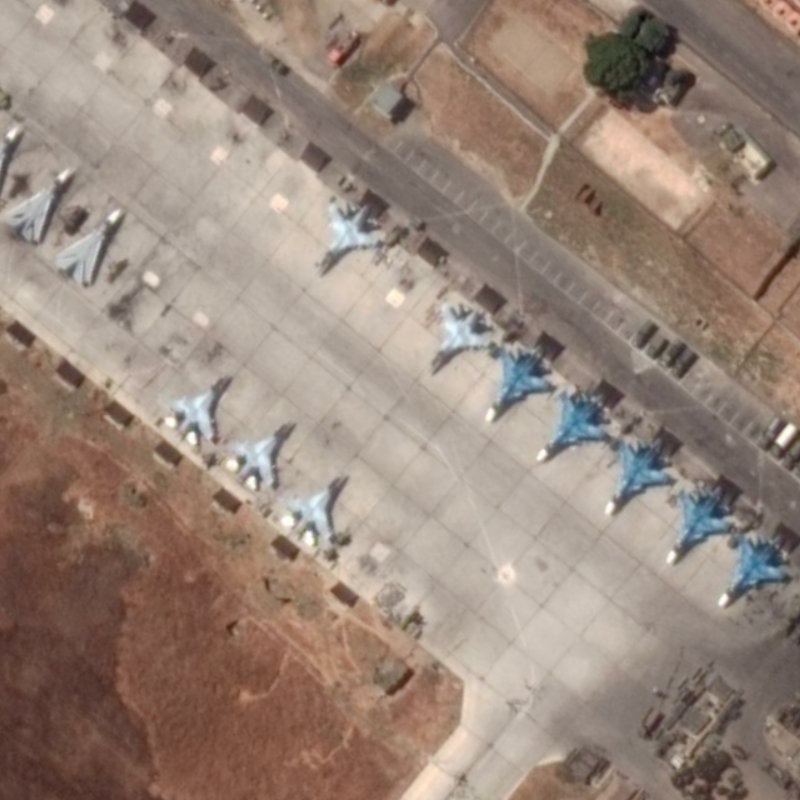A1: (313, 195, 385, 274), (227, 415, 297, 491), (281, 472, 348, 550), (163, 371, 229, 448), (426, 297, 493, 371)
A19: (661, 482, 740, 569), (532, 388, 616, 468), (714, 534, 797, 613), (601, 436, 677, 522), (483, 344, 555, 426)
A20: (52, 206, 128, 289), (2, 165, 76, 247)
